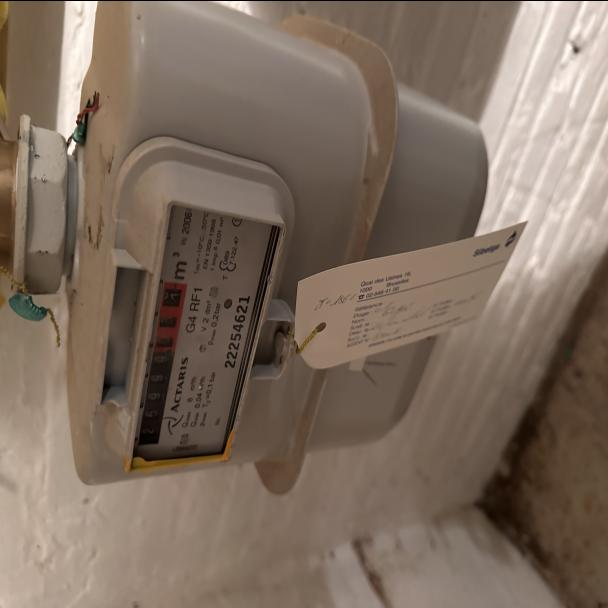0: (152, 328, 176, 350)
1: (161, 276, 185, 310)
2: (138, 422, 165, 440)
3: (157, 308, 180, 332)
5: (139, 402, 165, 422)
9: (142, 365, 170, 387), (144, 348, 171, 370), (142, 382, 168, 404)
cm: (153, 272, 188, 352)
counter: (136, 351, 179, 448)
